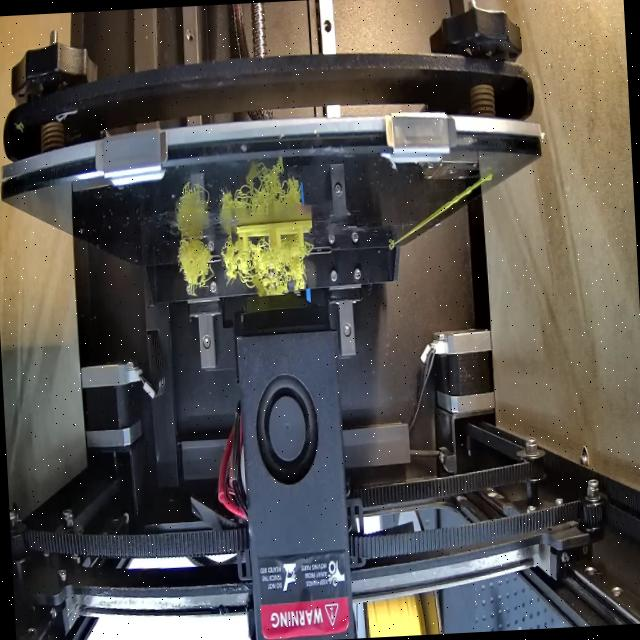spaghetti: (172, 234, 309, 306)
